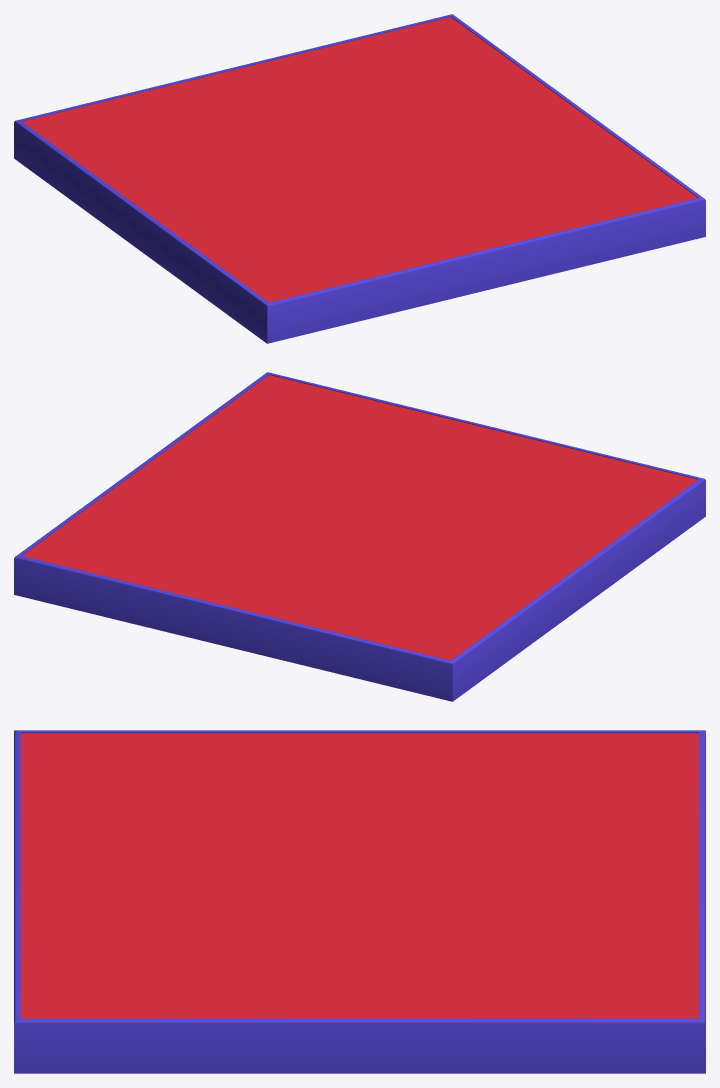
Rendered from Plateforme_6x6.fbx.
3 renders of one model, top to bottom at view 1: azimuth 30°, elevation 25°; view 2: azimuth 150°, elevation 25°; view 3: azimuth 270°, elevation 25°, orthographic. The views are drawn at different scales.
Visible parts, largest first — view 1: 6x6; view 2: 6x6; view 3: 6x6.
Part boxes in pixels (x1,y1,x2,y2): 6x6: (14, 14, 705, 343); 6x6: (14, 372, 705, 701); 6x6: (14, 730, 705, 1073).
Bounding box in the file's own units: 600 × 50 × 600.
